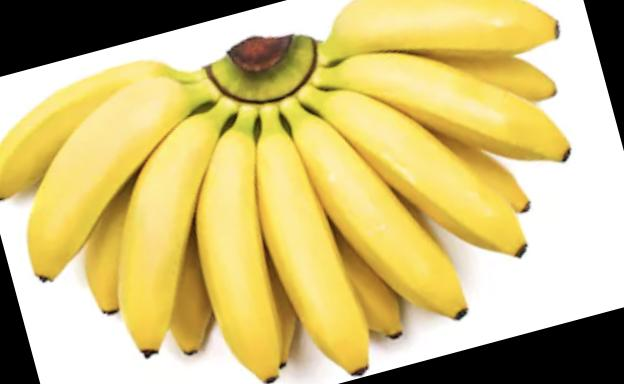Banana Ripe: (1, 0, 624, 384)
